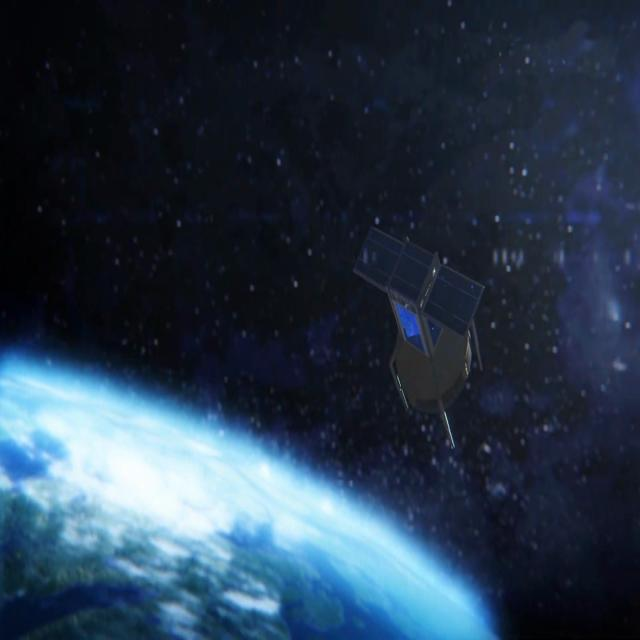satellite: (351, 202, 496, 476)
